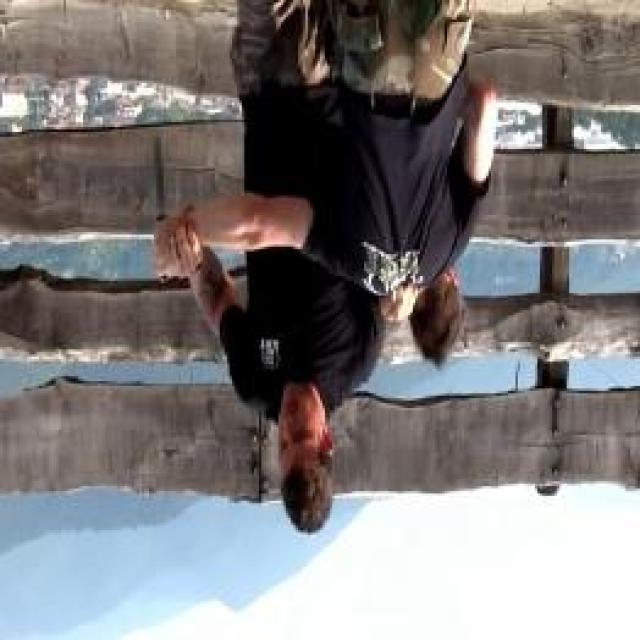knife: (148, 126, 176, 290)
